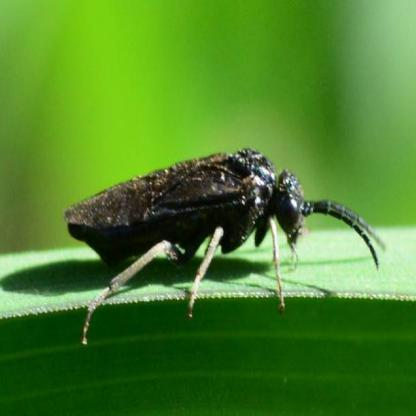sawfly: (61, 146, 392, 347)
